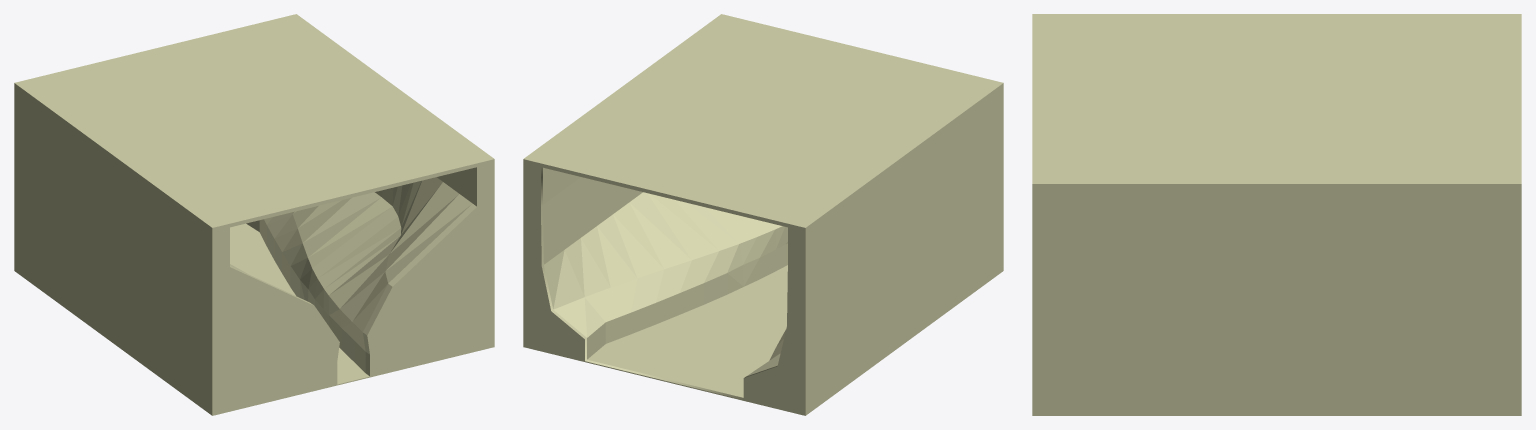
Rendered from shipHull.fbx.
3 renders of one model, left to right at view 1: azimuth 30°, elevation 25°; view 2: azimuth 150°, elevation 25°; view 3: azimuth 270°, elevation 25°, orthographic. The views are drawn at different scales.
Visible parts, largest first — view 1: hull; view 2: hull; view 3: hull.
Part boxes in pixels (x1,y1,x2,y2): hull: (14, 14, 494, 415); hull: (523, 14, 1003, 415); hull: (1032, 14, 1521, 415).
Bounding box in the file's own units: 3020 × 1922 × 3672.
